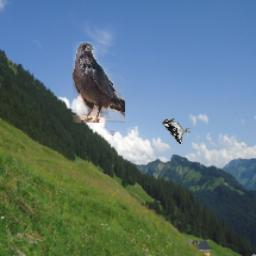Crow: (73, 42, 125, 123)
Woodpecker: (162, 118, 191, 145)
